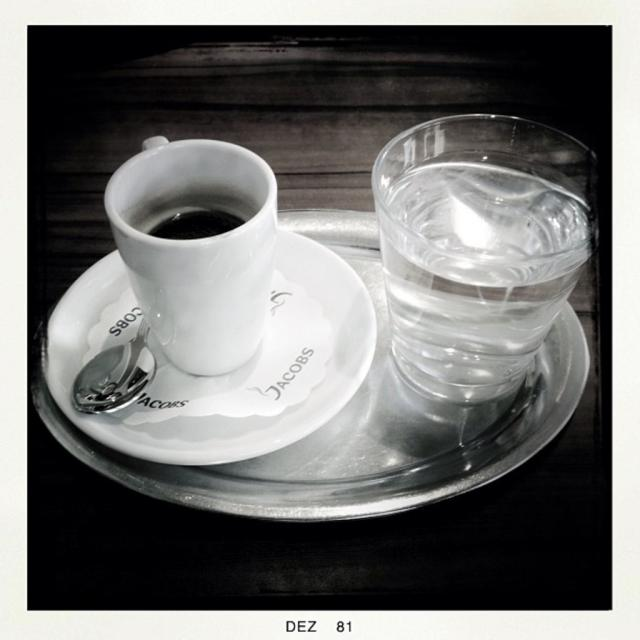Coffee: (92, 135, 290, 387)
